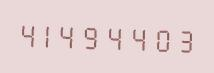four: (17, 16, 38, 50), (61, 18, 82, 52), (105, 19, 126, 53), (127, 20, 148, 54)
nine: (83, 19, 104, 52)
one: (39, 17, 60, 51)
three: (171, 22, 192, 55)
zero: (149, 21, 170, 55)
